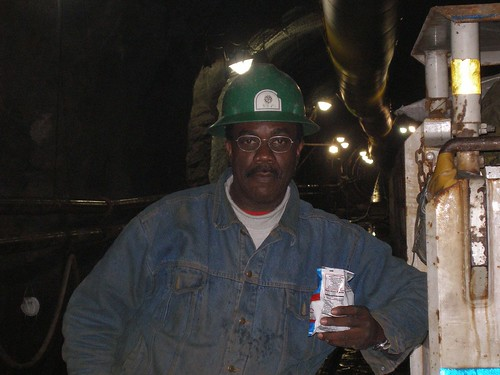person hardhat: (93, 63, 407, 375)
